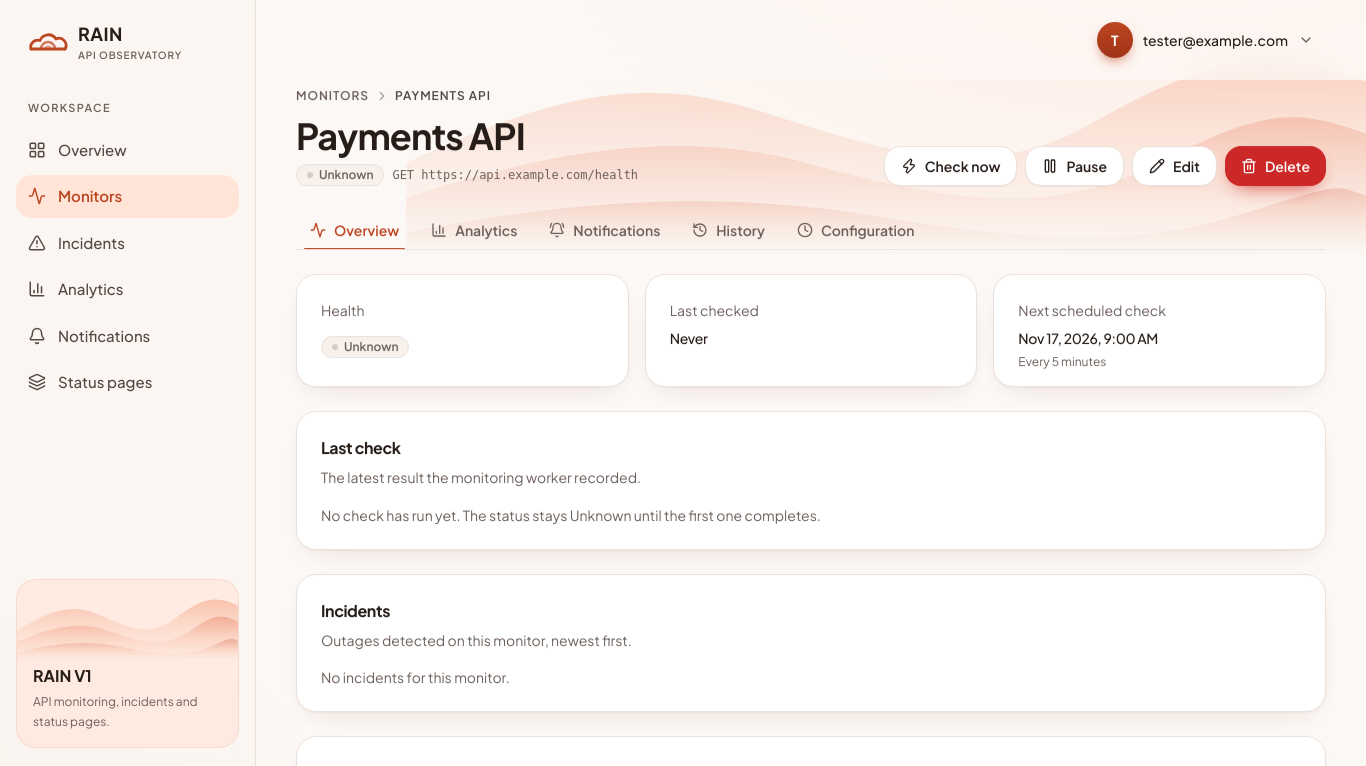
it: monitor details › deletes after confirmation and returns to the registry
This screenshot has width=1366, height=766.
Click the button "Delete" at (1275, 166), box [1225, 146, 1326, 186]
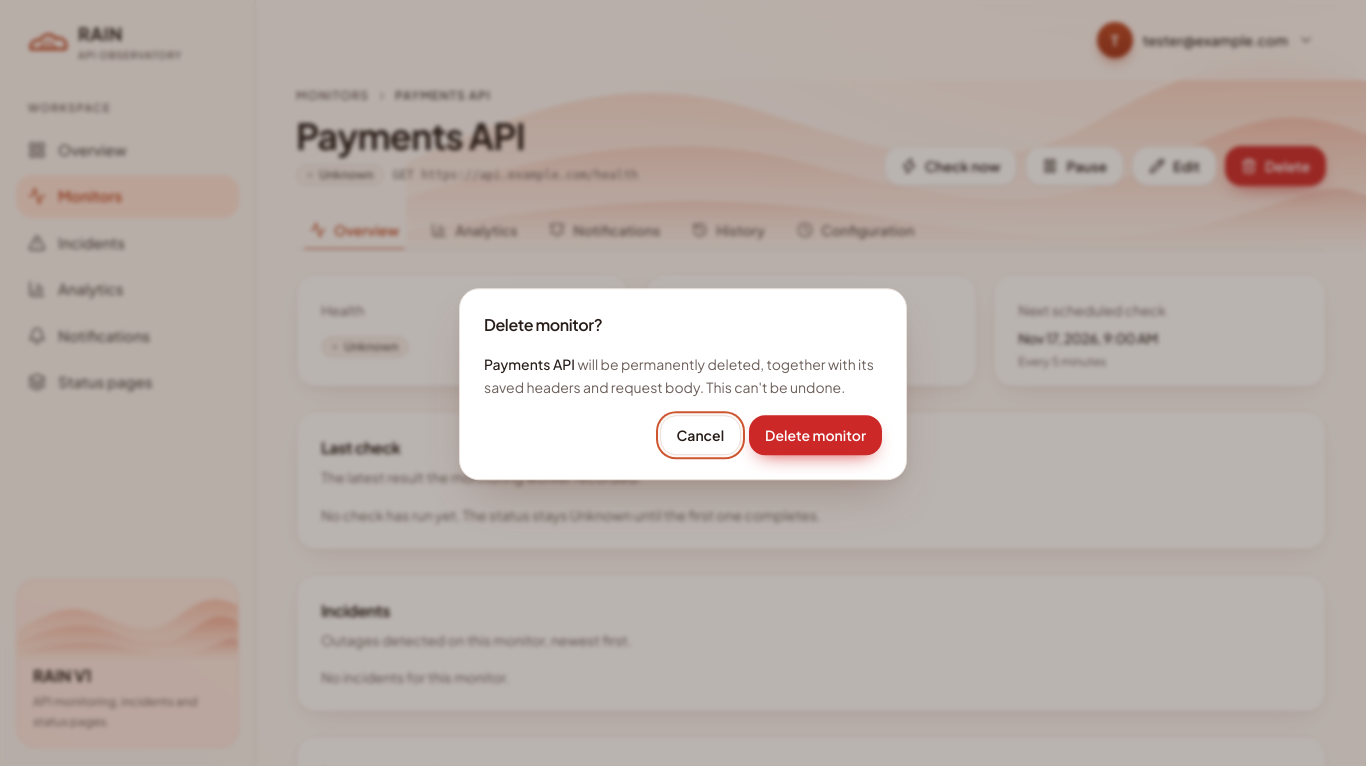
Check: the text "Payments API" is shown, box [484, 355, 575, 373]
Click the button "Delete monitor" at (816, 435), box [749, 415, 882, 455]
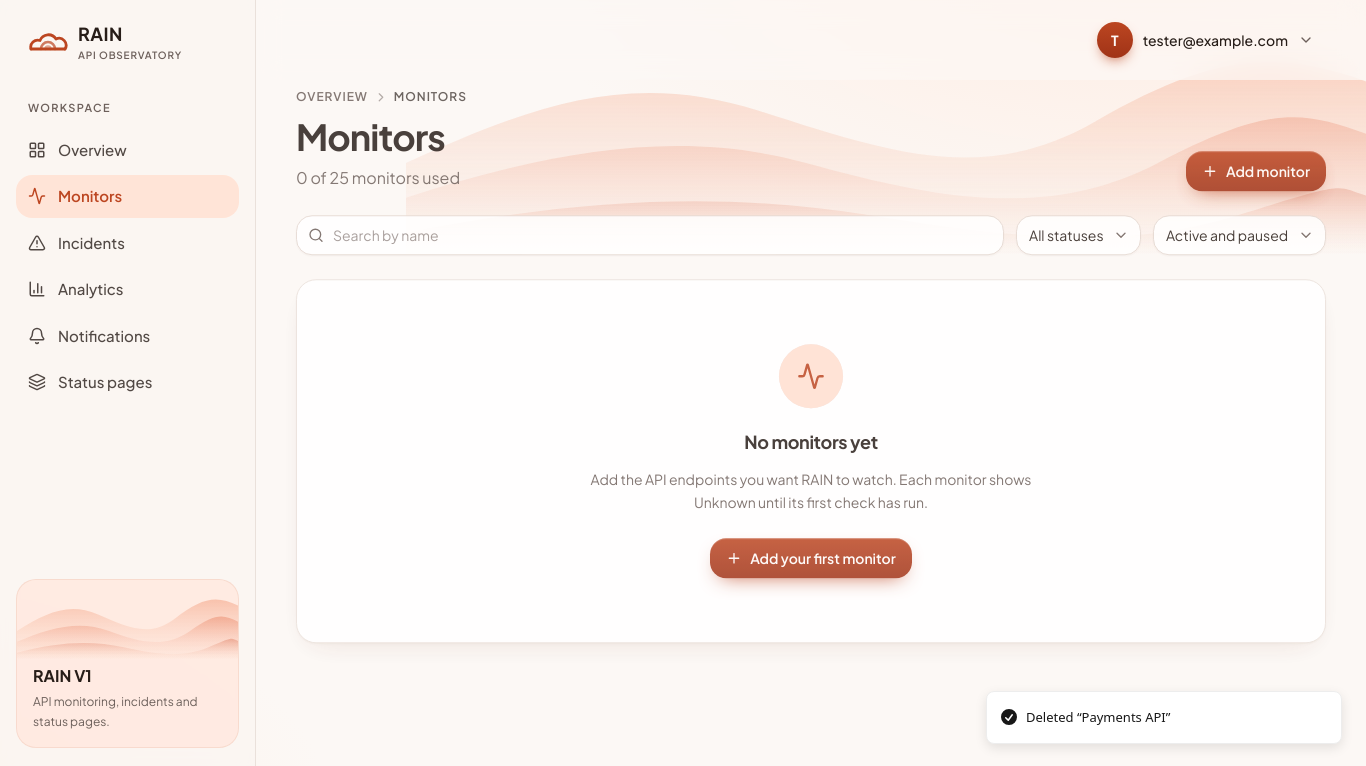
Check: the heading "No monitors yet" is shown, box [744, 427, 878, 455]
